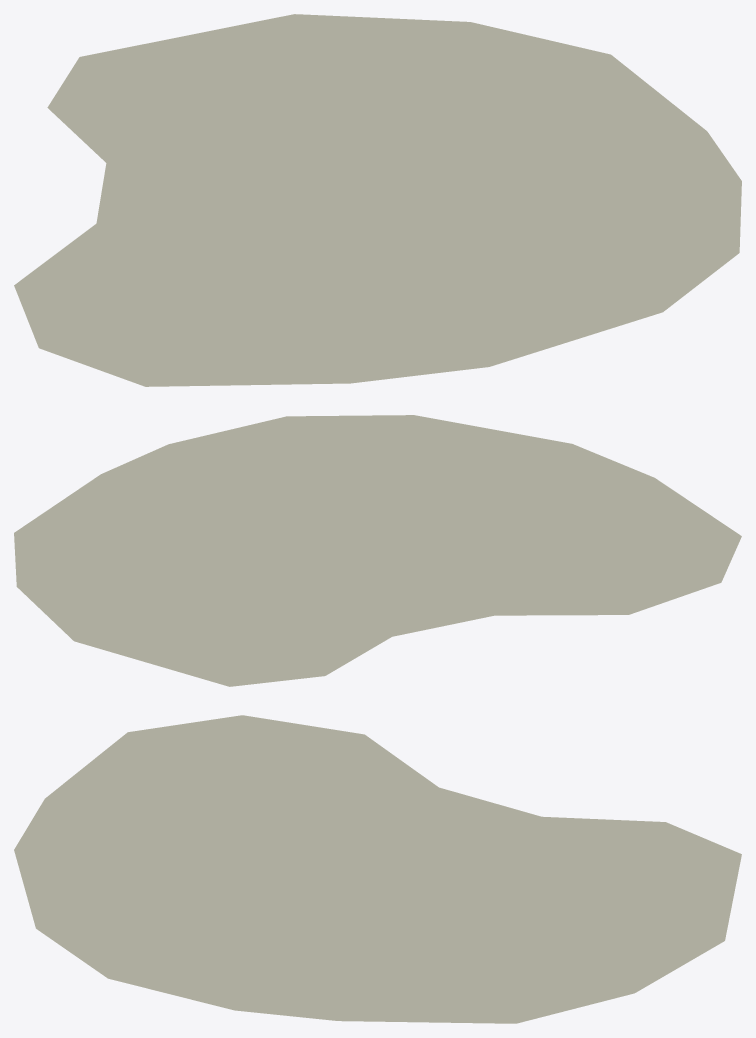
The model's file is SM_Prop_Puddle_01.obj.
3 views of the same model, one above another, from view 1: azimuth 30°, elevation 25°; view 2: azimuth 150°, elevation 25°; view 3: azimuth 270°, elevation 25° (orthographic). The views are drawn at different scales.
Parts seen in each view (by area): view 1: SM_Prop_Puddle_01_0; view 2: SM_Prop_Puddle_01_0; view 3: SM_Prop_Puddle_01_0.
Part boxes in pixels (x1=…): SM_Prop_Puddle_01_0: x1=14, y1=14, x2=741, y2=386; SM_Prop_Puddle_01_0: x1=14, y1=415, x2=741, y2=686; SM_Prop_Puddle_01_0: x1=14, y1=715, x2=741, y2=1023.
Size of the model in its own units: 4.7 by 0 by 4.68.
Materials: 1 (1 with a texture image).
